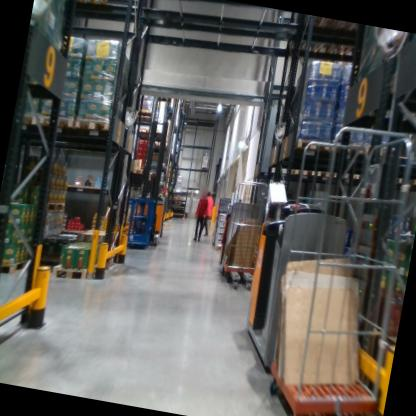forklift: (125, 106, 188, 255)
pallet: (70, 112, 118, 145), (49, 256, 100, 286), (0, 250, 34, 283), (35, 112, 76, 138), (290, 134, 333, 156), (339, 135, 374, 161), (331, 165, 365, 189), (36, 199, 65, 221), (14, 110, 40, 134), (313, 162, 339, 182), (292, 164, 317, 183), (135, 104, 154, 127), (130, 162, 143, 177)
pallet_truck: (220, 149, 416, 416), (211, 190, 273, 300)
